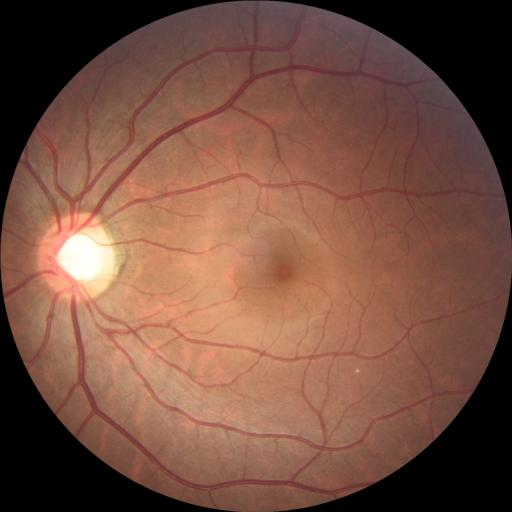Optic Cup: (56, 232, 99, 282)
Optic Disc: (37, 211, 116, 304)
